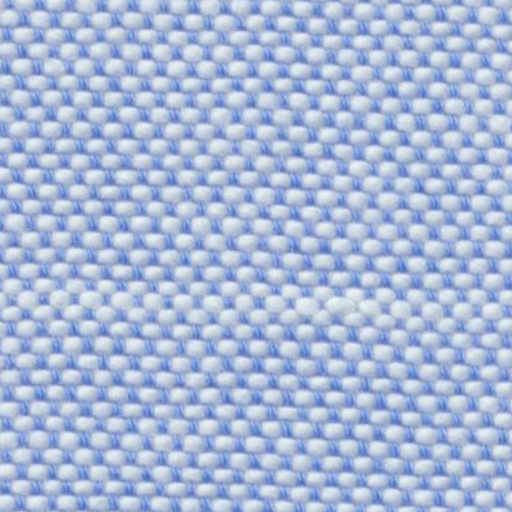TuoSha: (9, 242, 496, 363)
